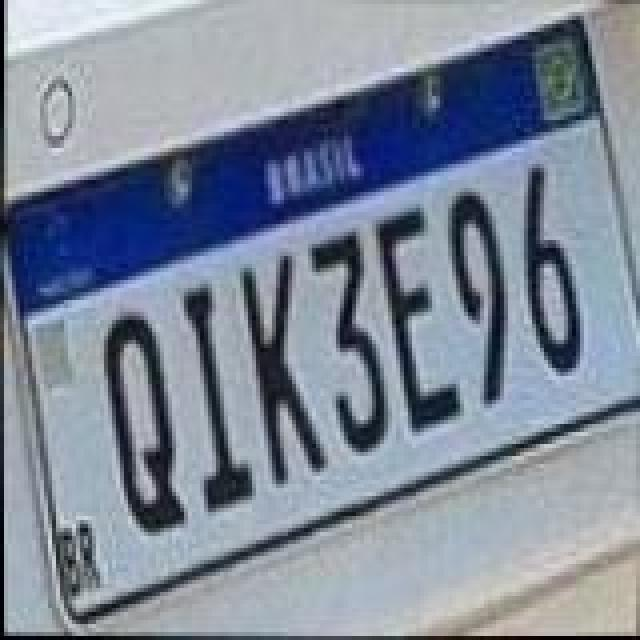3: (306, 232, 394, 460)
6: (516, 160, 592, 384)
9: (444, 186, 512, 414)
E: (368, 208, 468, 440)
I: (178, 276, 254, 516)
K: (234, 250, 330, 498)
Q: (96, 310, 192, 538)
